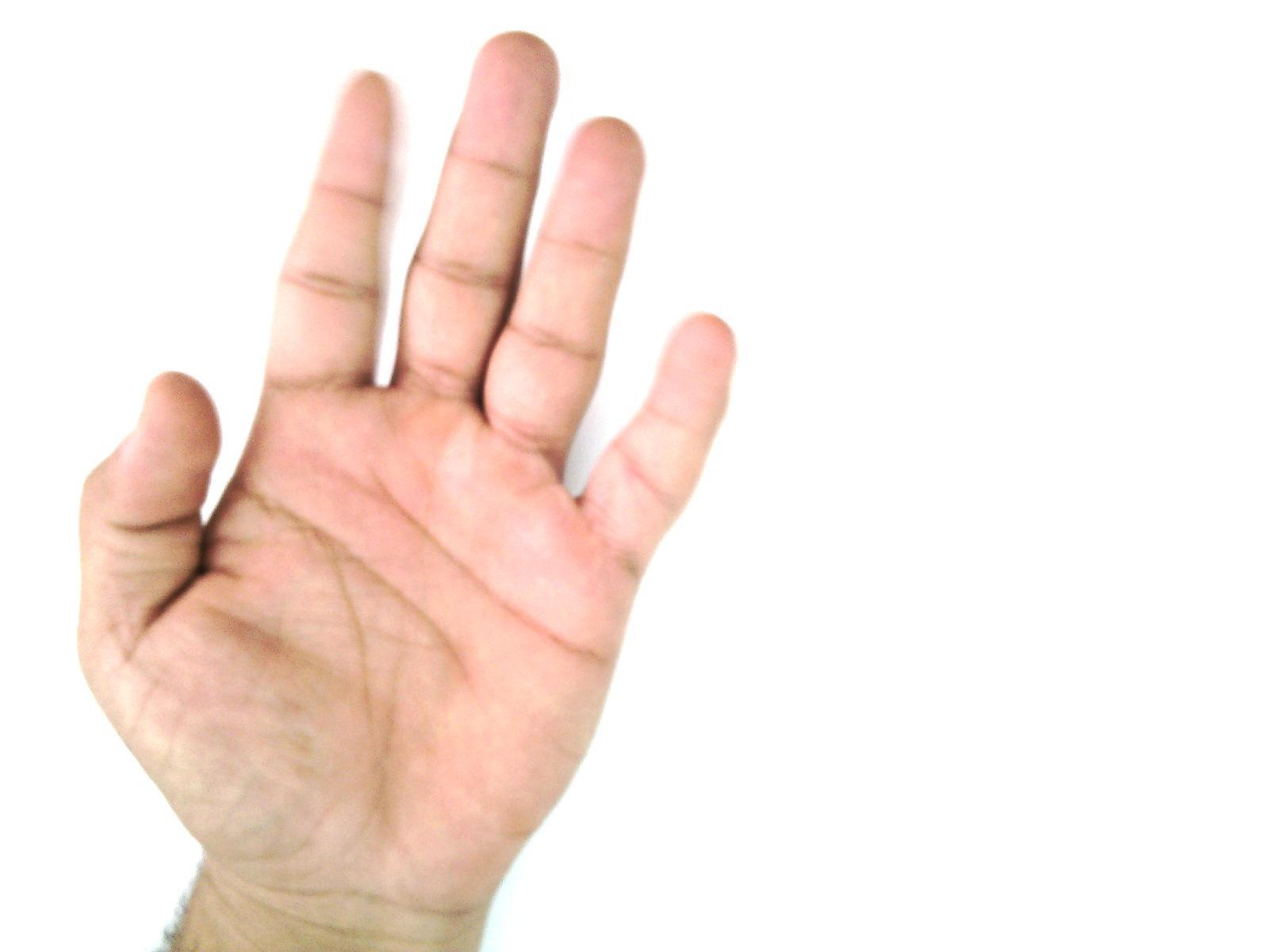open_palm: (74, 29, 739, 917)
